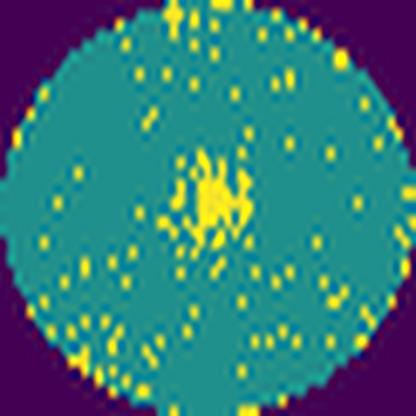Center: (183, 151, 254, 248)
